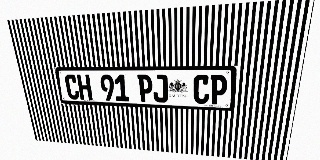1: (113, 74, 129, 101)
9: (99, 74, 115, 101)
C: (193, 75, 210, 104), (64, 74, 80, 100)
H: (77, 74, 93, 100)
J: (152, 75, 168, 103)
P: (209, 75, 228, 105), (137, 75, 153, 102)
